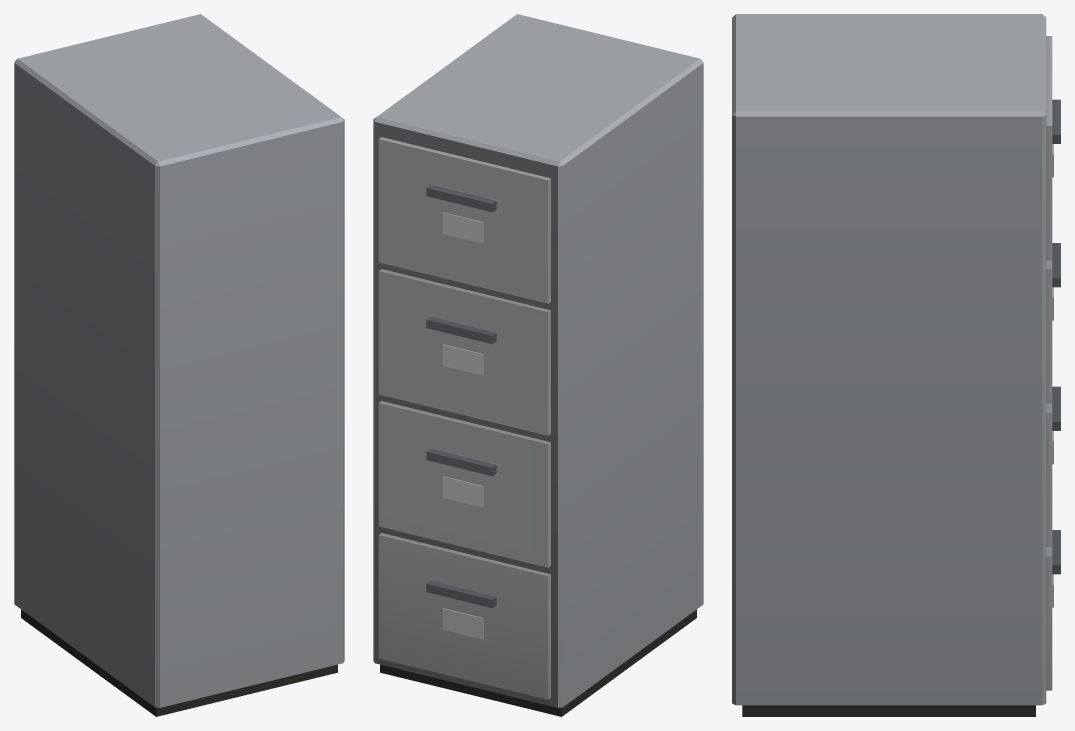
Rendered from cabinet_file_01.glb.
3 views of the same model, side by side, from view 1: azimuth 30°, elevation 25°; view 2: azimuth 150°, elevation 25°; view 3: azimuth 270°, elevation 25° (orthographic). The views are drawn at different scales.
Visible parts, largest first — view 1: cabinet_file_01_mesh; view 2: cabinet_file_01_mesh; view 3: cabinet_file_01_mesh.
Boxes of the visible parts, x1,y1,x2,y2 form: cabinet_file_01_mesh: [14, 14, 344, 716]; cabinet_file_01_mesh: [373, 14, 703, 716]; cabinet_file_01_mesh: [732, 14, 1060, 716].
Size of the model in its own units: 0.47 by 1.32 by 0.649.
1 material, 1 textured.
